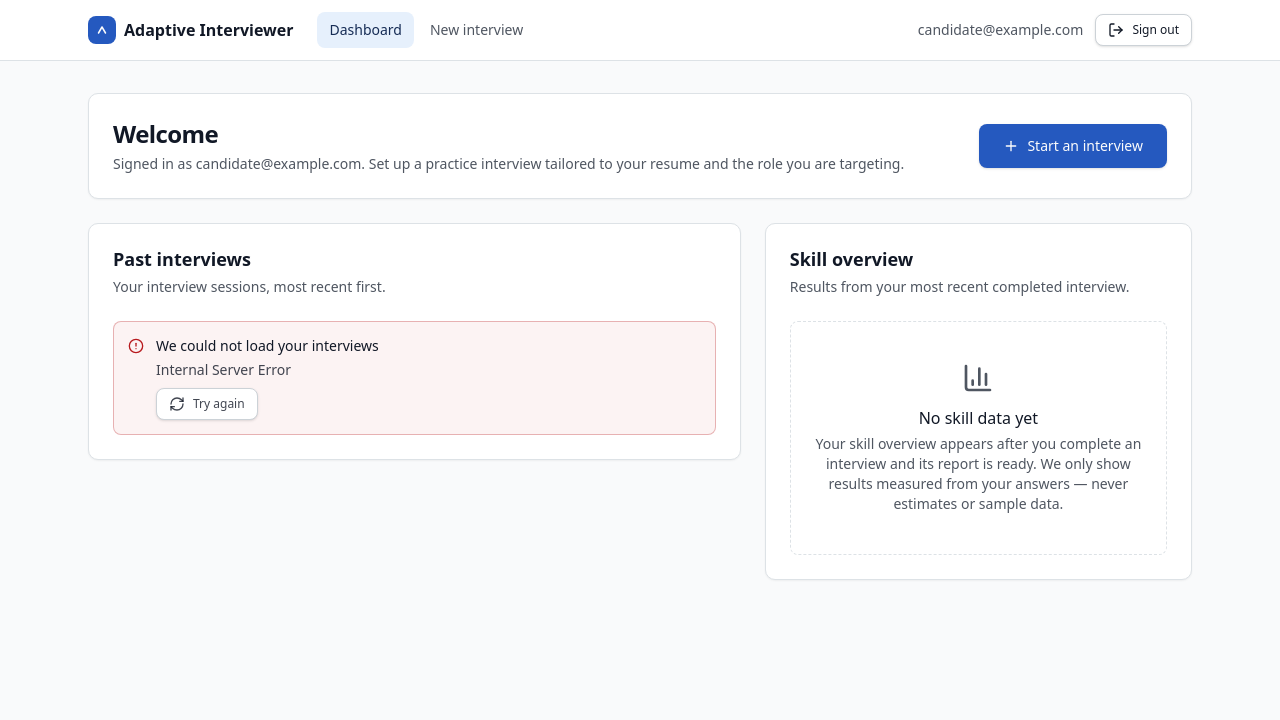
Scenario: dashboard › shows a retryable error when sessions cannot load
The image size is (1280, 720).
Expected: the text "We could not load your interviews" is shown, 156,336 -> 379,356
Click the button "Try again" at (207, 404), box 156,388 -> 258,420
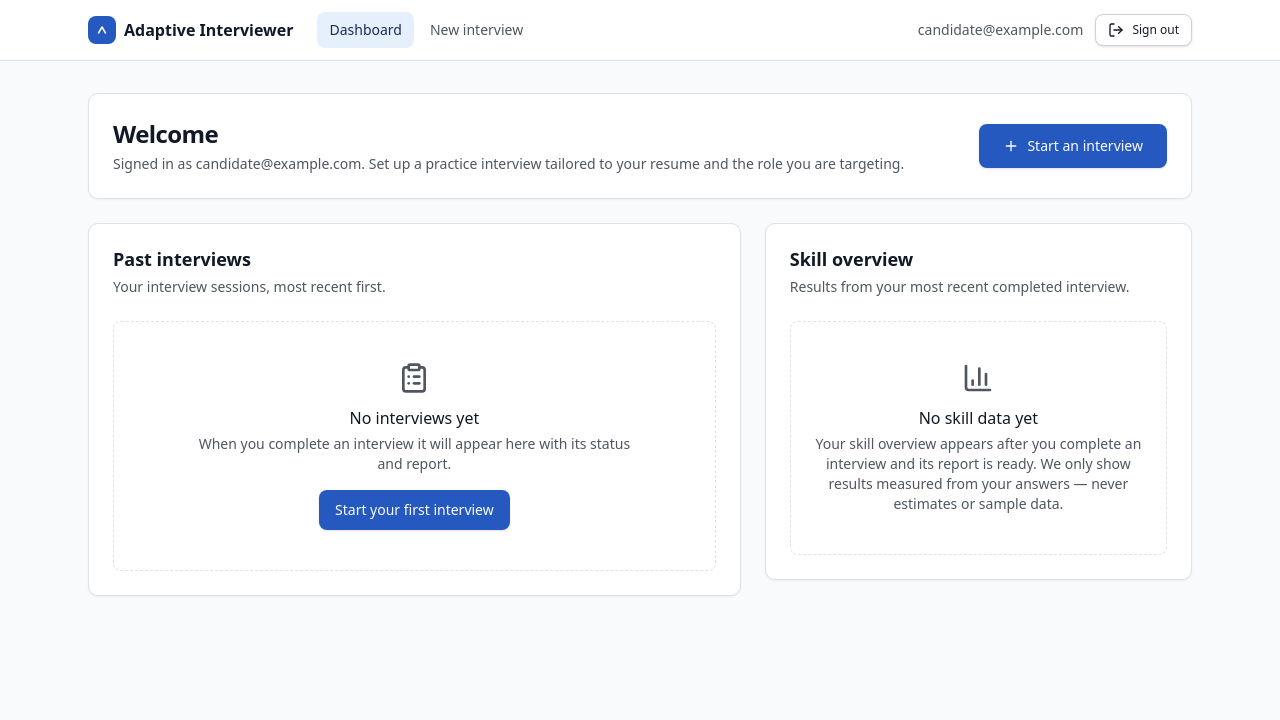
Expected: the text "No interviews yet" is shown, 350,406 -> 479,430
